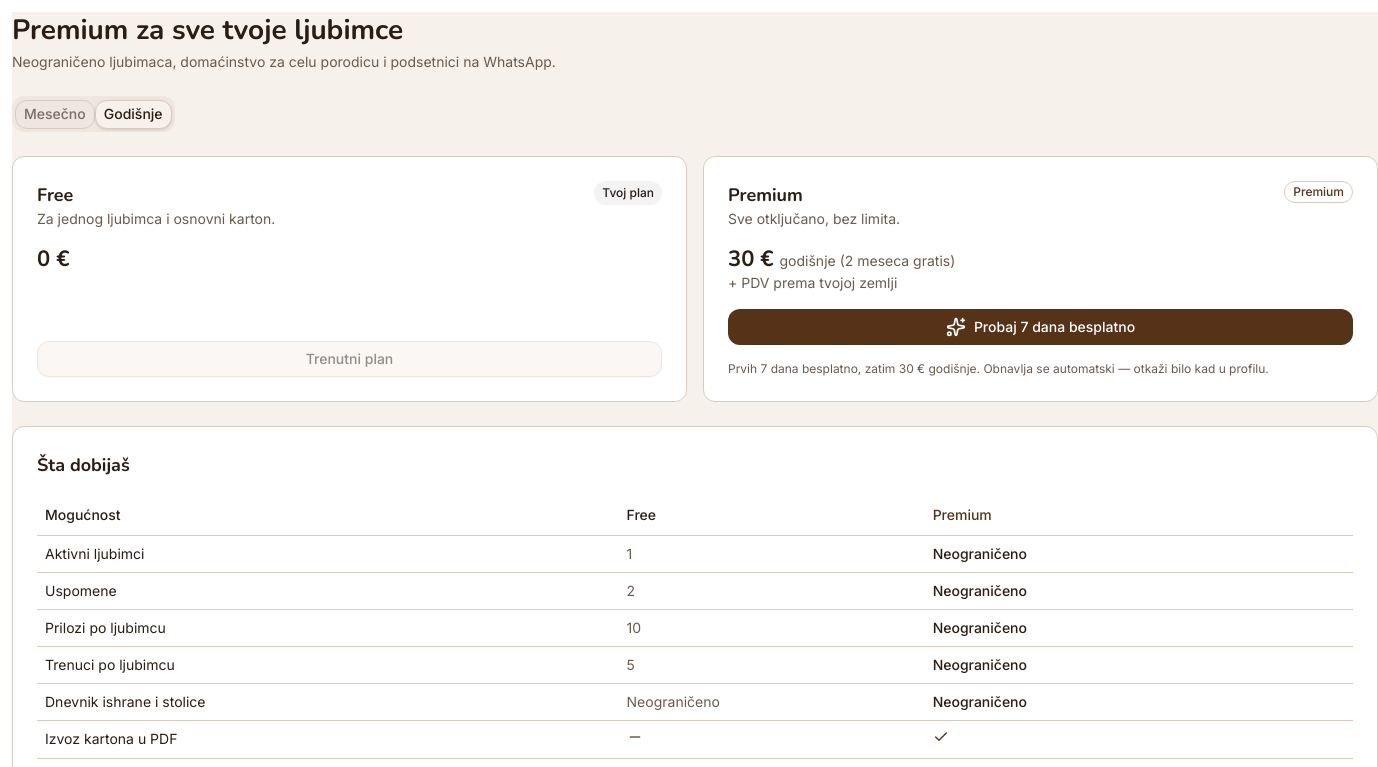
Test: S17 Premium — checkout (FR-37 #1, EP-45) › EP-45 trial_already_used → trial_used
The width and height of the screenshot is (1378, 767).
Click the button "Probaj 7 dana besplatno". click: coordinates (1040, 327)
box: [728, 309, 1353, 345]
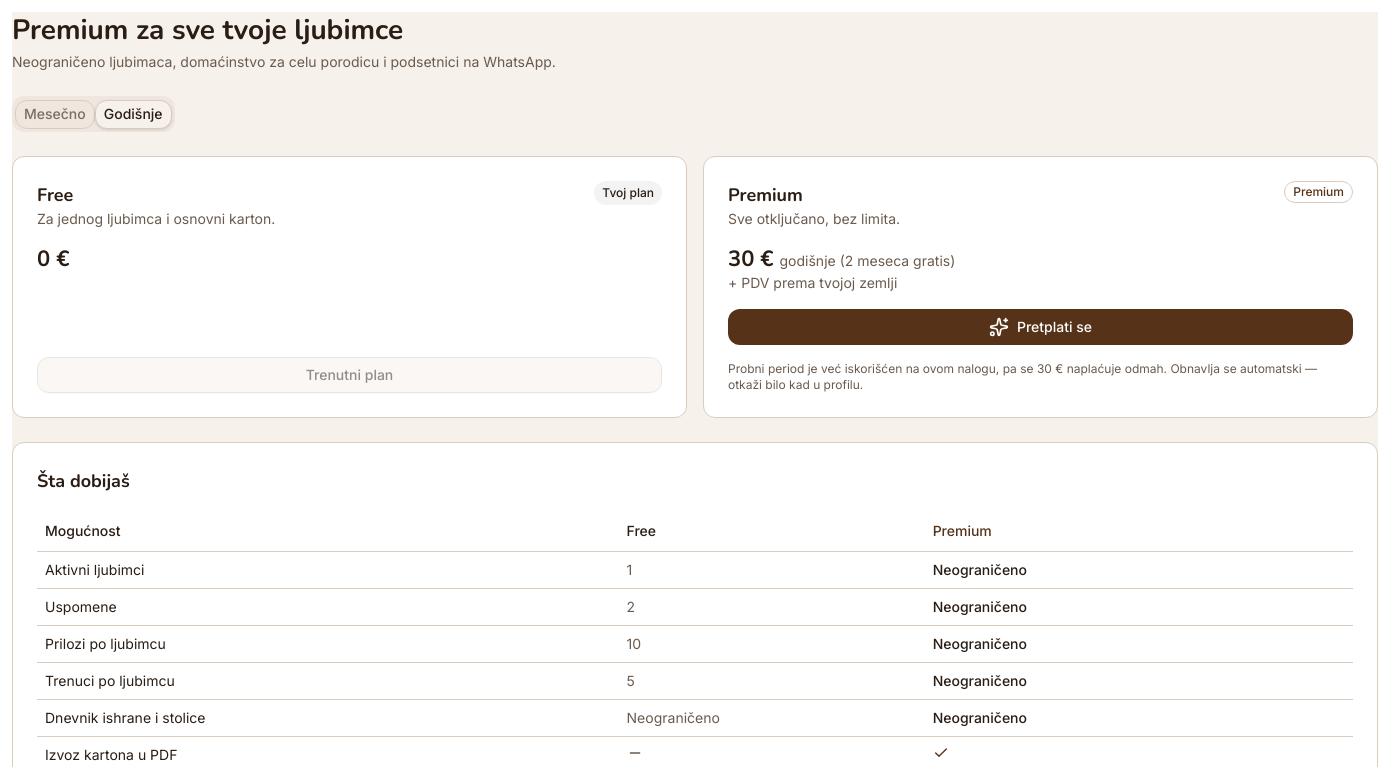
Check: the button "Pretplati se" is shown, box [728, 309, 1353, 345]
